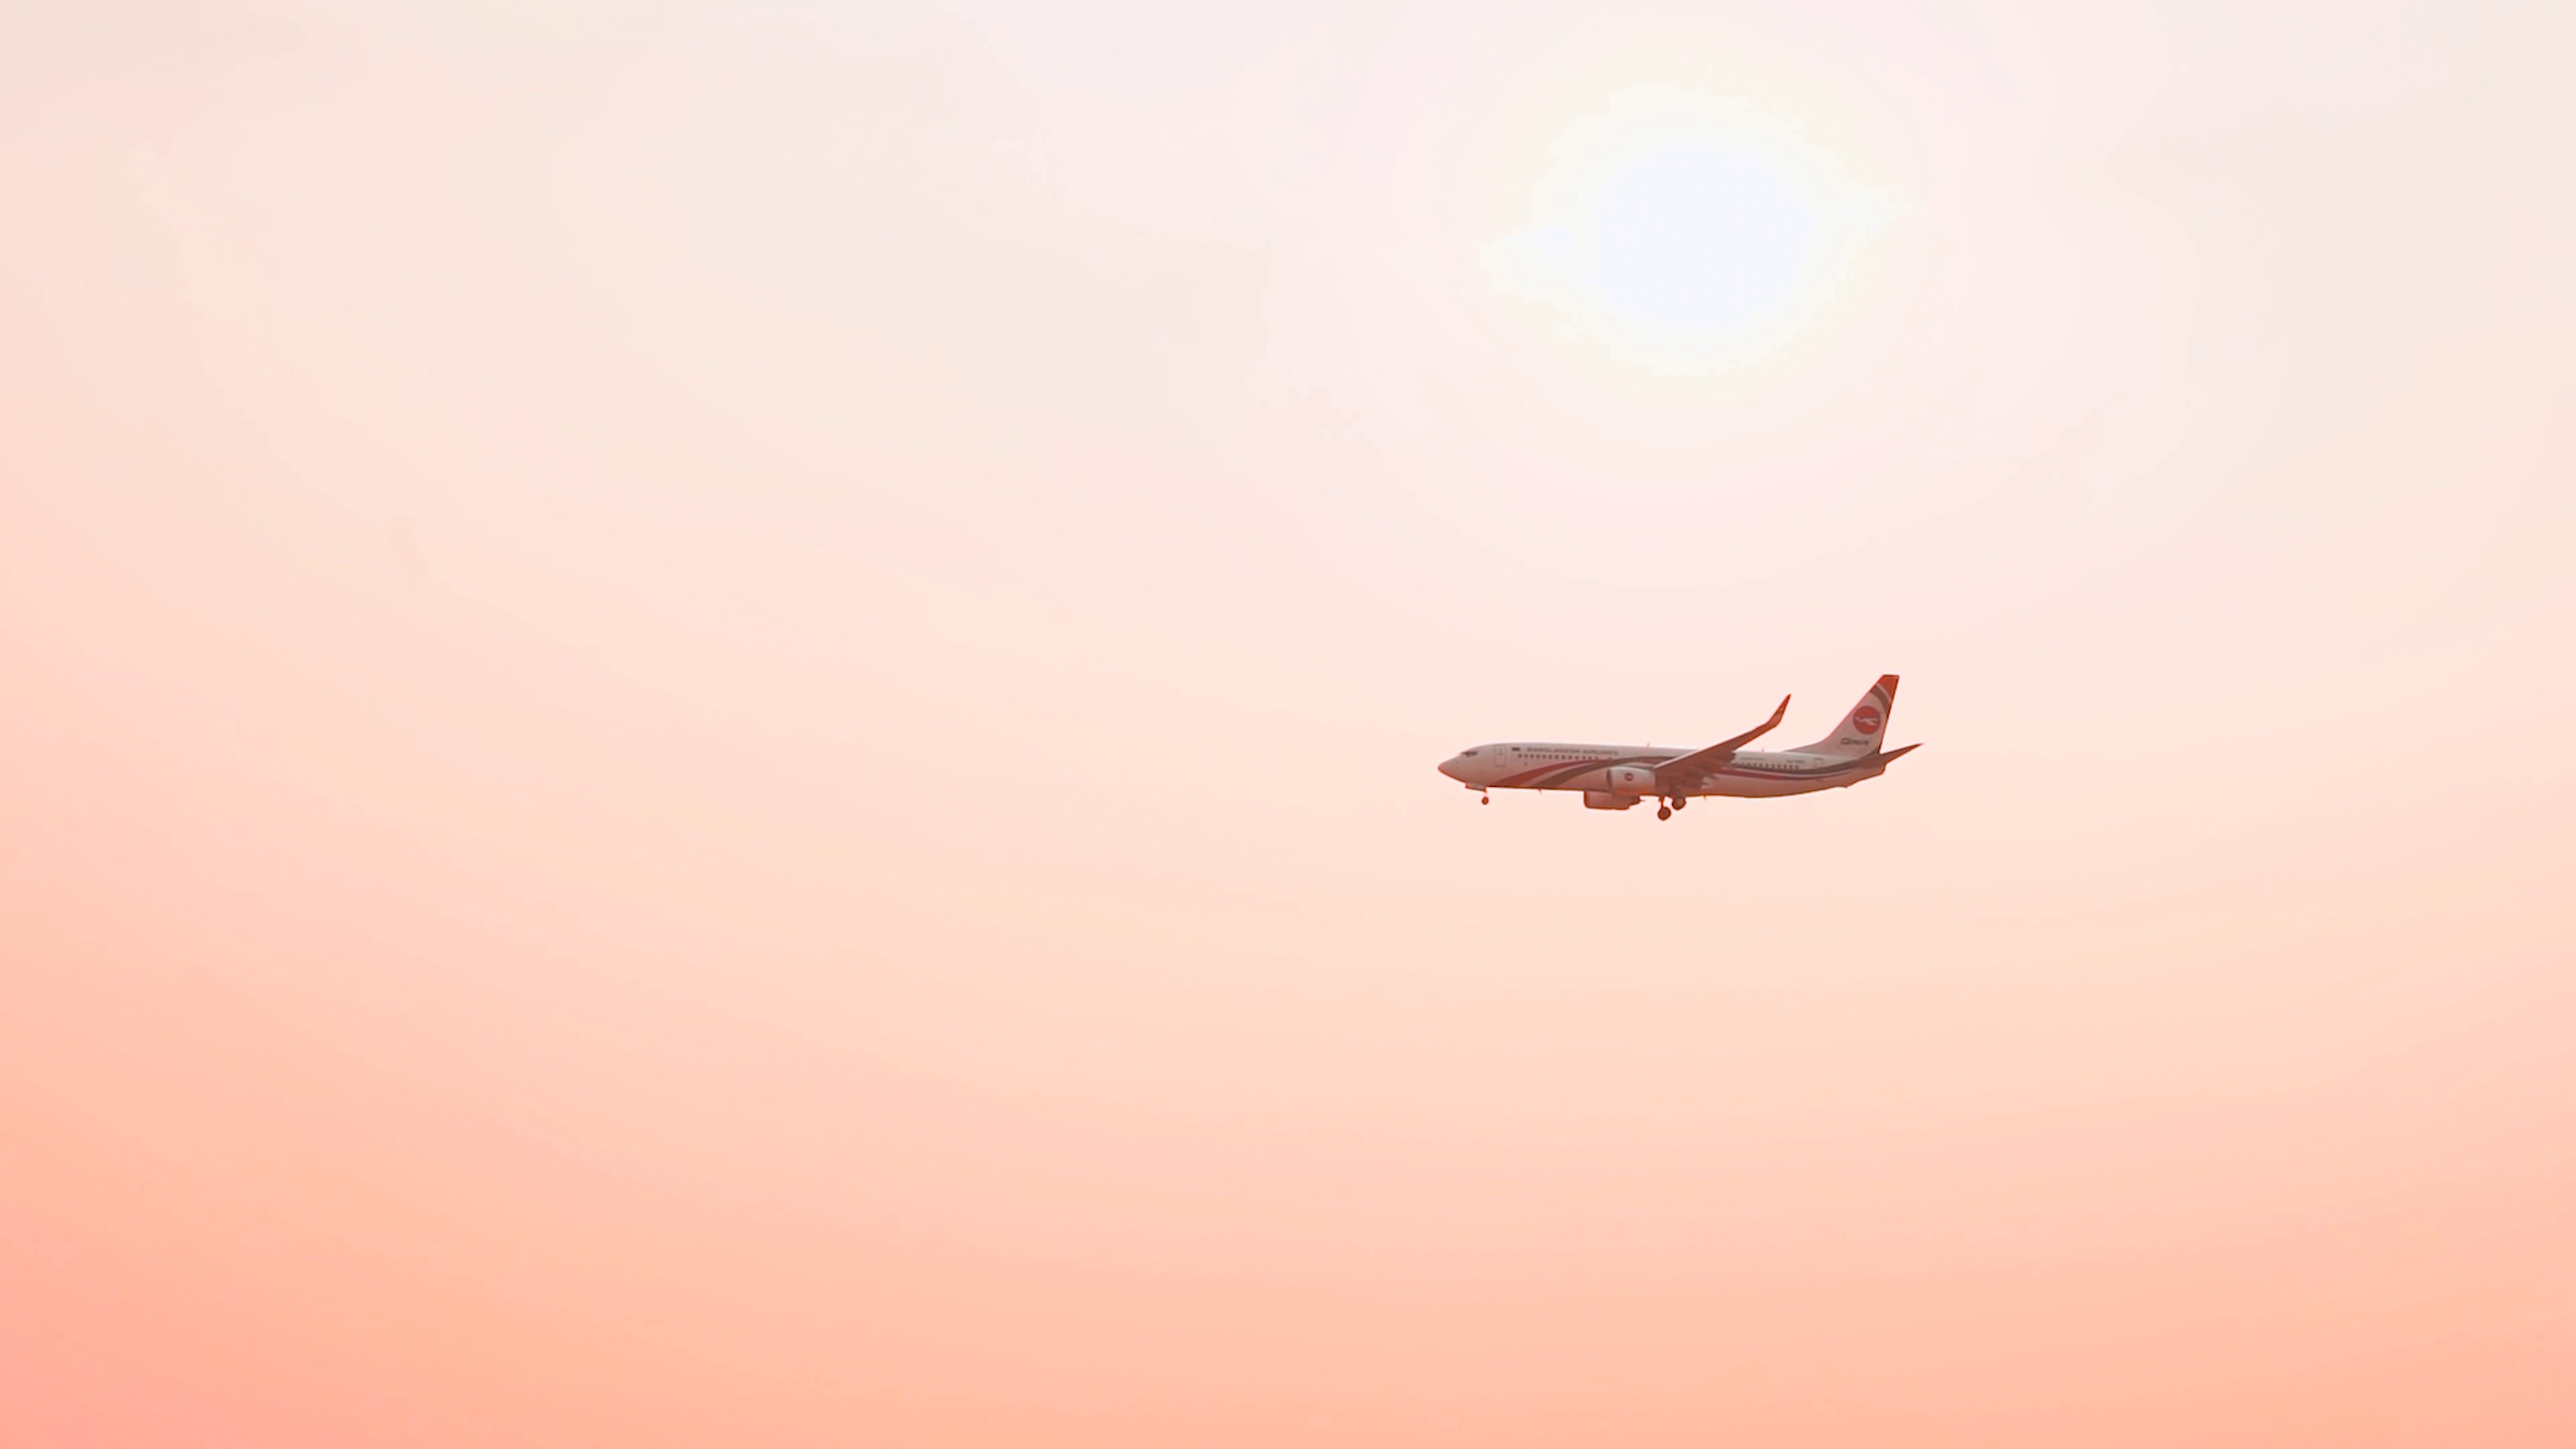plane: (1435, 674, 1920, 821)
